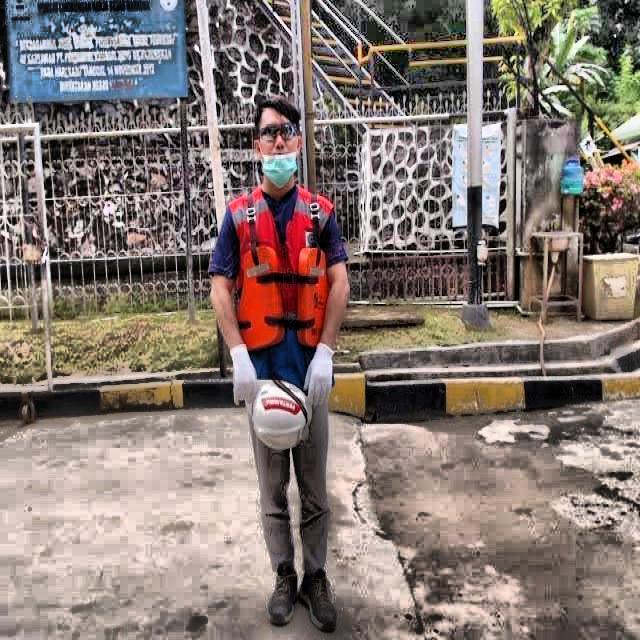safety_helmet: (241, 372, 319, 452)
safety_jacket: (227, 182, 337, 386)
